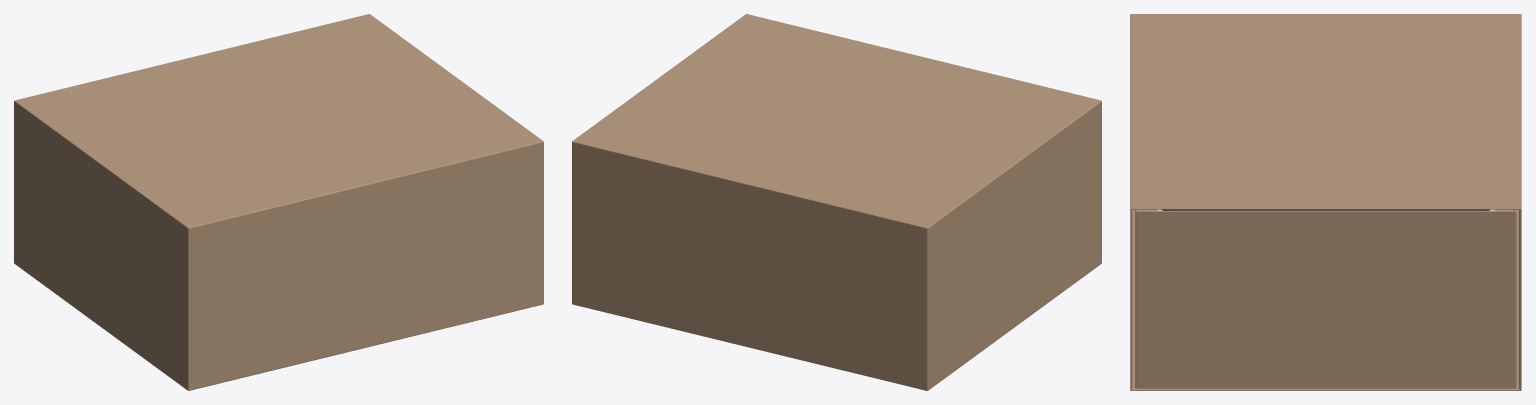
File: anim-shorts.glb
3 renders of one model, left to right at view 1: azimuth 30°, elevation 25°; view 2: azimuth 150°, elevation 25°; view 3: azimuth 270°, elevation 25°, orthographic. The views are drawn at different scales.
Parts seen in each view (by area): view 1: shb_s; view 2: shb_s; view 3: shb_s, shb_d, shb_tab, st3.
Part boxes in pixels (<box>): shb_s: <box>14,14,543,390</box>; shb_s: <box>572,14,1101,390</box>; shb_s: <box>1130,14,1521,390</box>; shb_d: <box>1135,209,1516,388</box>; shb_tab: <box>1326,260,1374,347</box>; st3: <box>1162,209,1489,210</box>.
Bounding box in the file's own units: 0.1095 × 0.048 × 0.093.
Materials: 3 (1 with a texture image).
